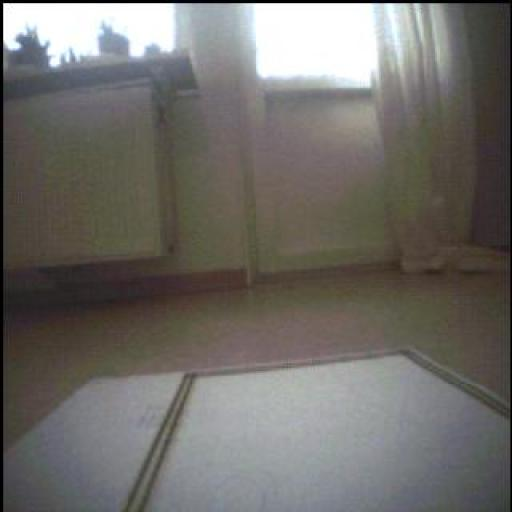Pad: (1, 344, 512, 509)
